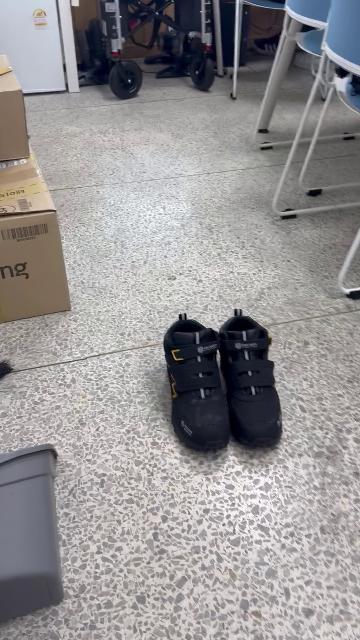shoe_worn: (217, 309, 284, 449), (164, 314, 229, 449)
